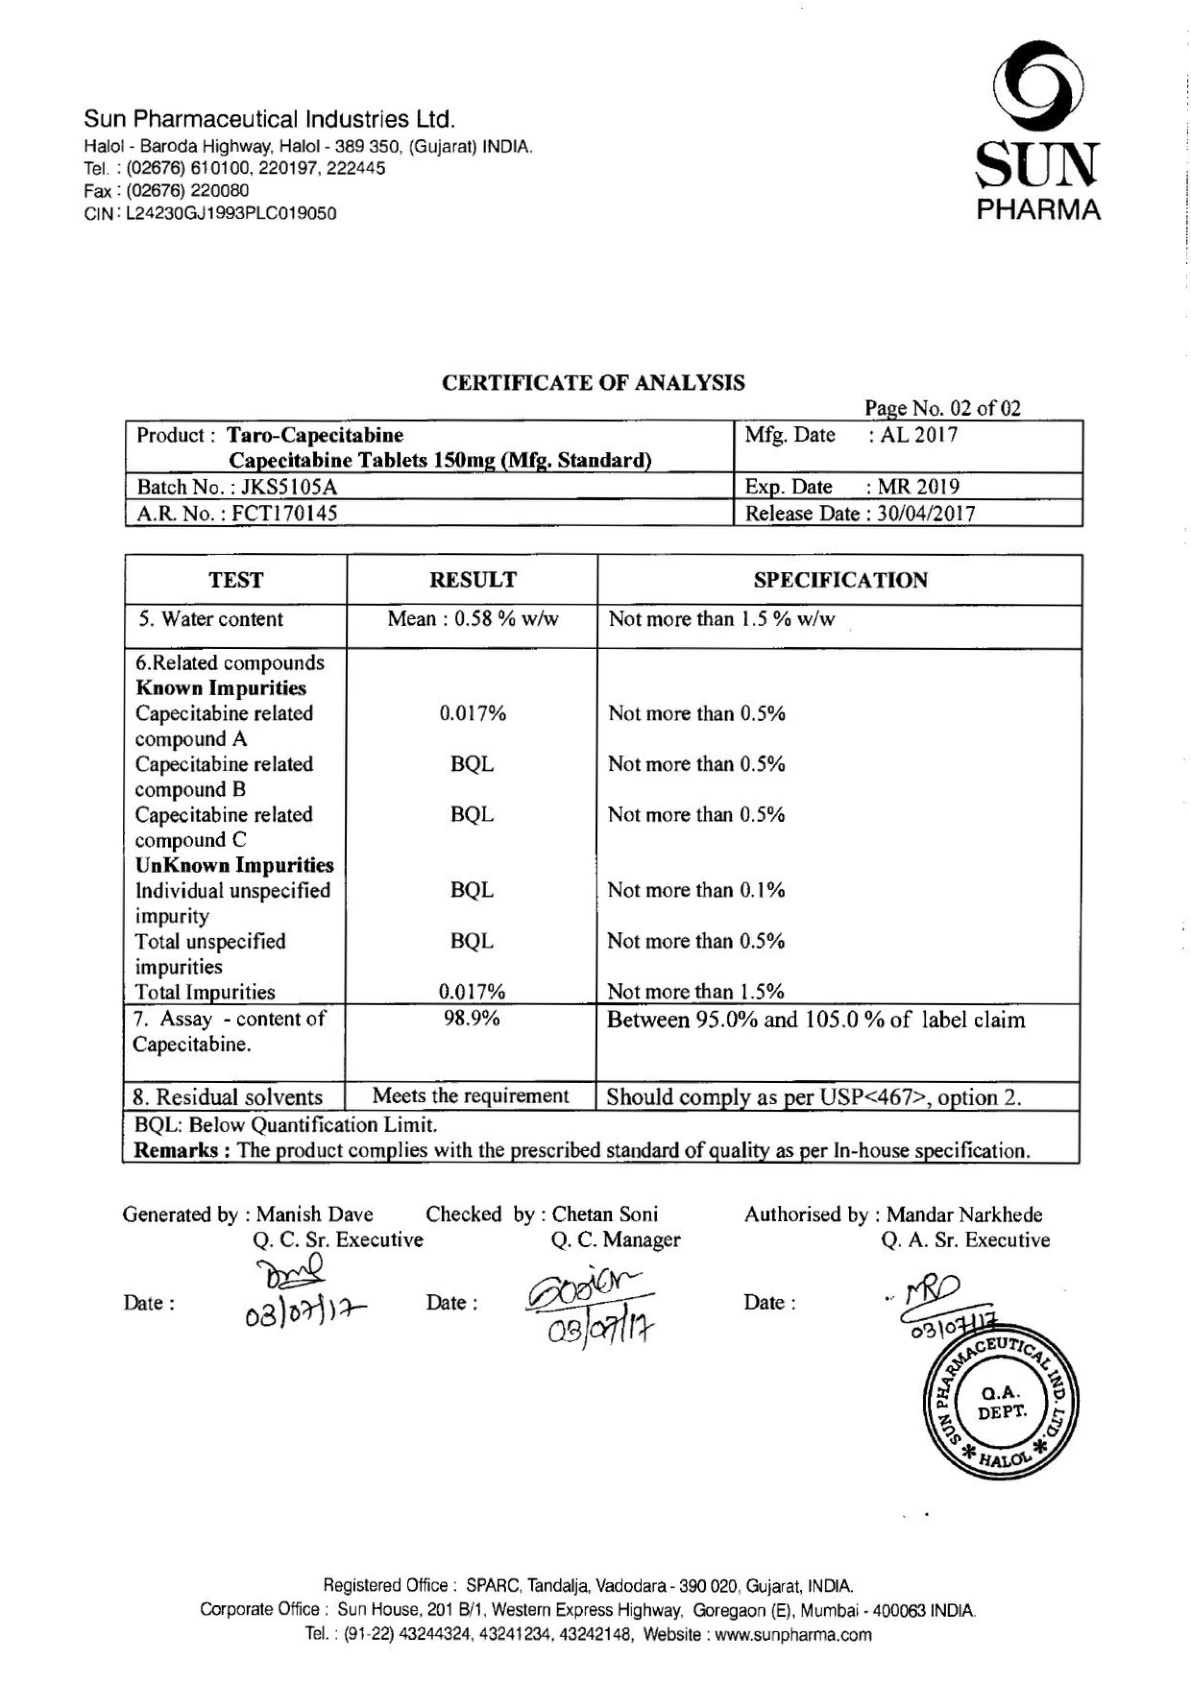full_lined: (122, 419, 1084, 528)
merged_cells: (120, 553, 1085, 1164)
